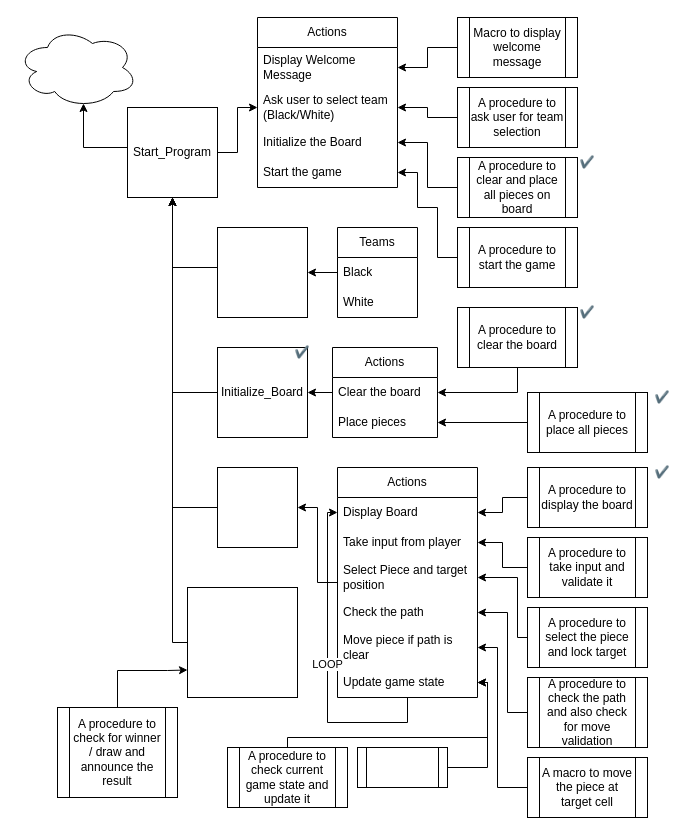
This 687x835 diagram has some shape labels left out. The shapes that lost their labels are listed below. From the top down, each one's centre as x and y in pixels, then its label:
point (77, 67): MAIN
point (262, 272): Team_Selection
point (257, 507): Start_Game
point (242, 642): Announce_Result
point (402, 767): A macro to update turn
